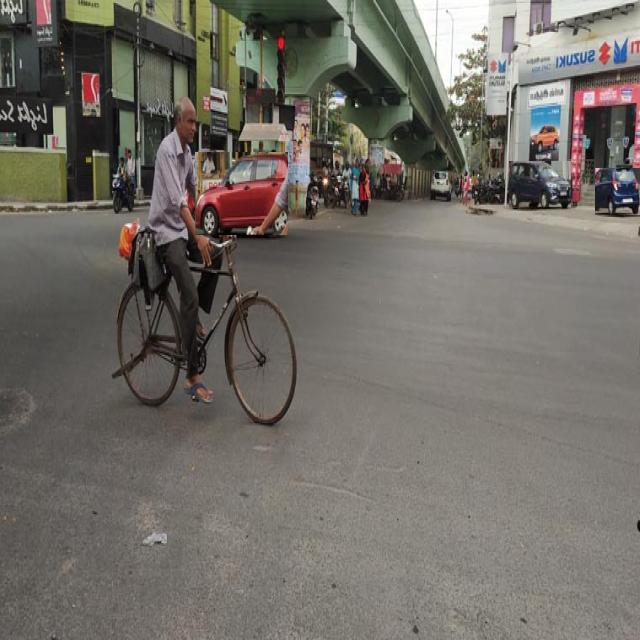bicycle: (115, 99, 296, 424)
car: (195, 153, 288, 235), (509, 162, 571, 208), (595, 168, 640, 215)
